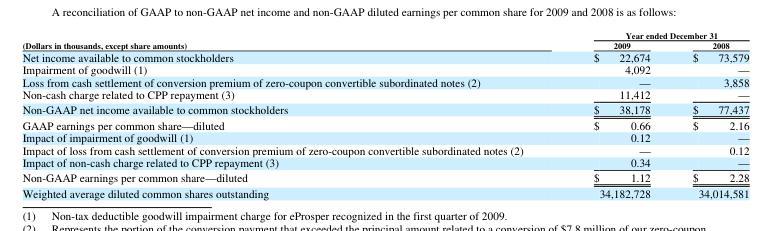table: (21, 28, 748, 200)
table column: (21, 28, 557, 200), (557, 28, 670, 200), (670, 28, 748, 200)
table column header: (21, 28, 748, 49)
table row: (21, 184, 748, 200), (21, 101, 748, 116), (21, 169, 748, 184), (21, 87, 748, 101), (21, 116, 748, 130), (21, 155, 748, 169), (21, 49, 748, 62), (21, 62, 748, 75), (21, 130, 748, 143), (21, 75, 748, 87), (21, 143, 748, 155), (21, 28, 748, 39), (21, 39, 748, 49)
table spanning cell: (21, 28, 557, 49), (557, 28, 748, 39)
